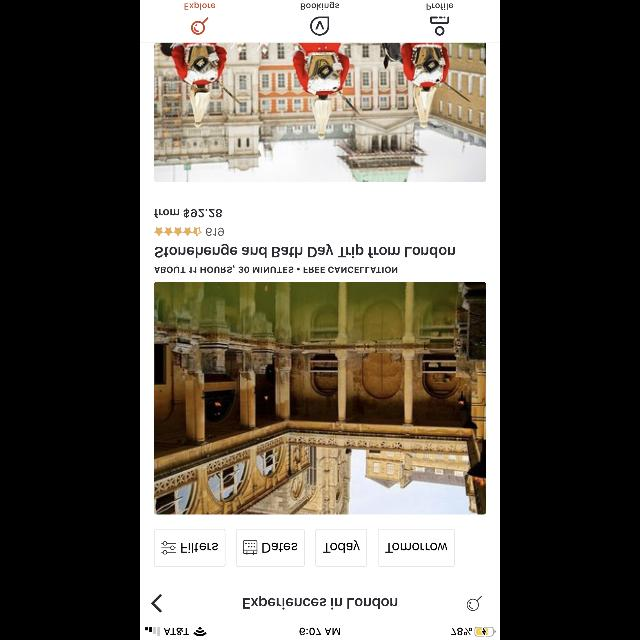icon: (154, 227, 202, 237), (430, 16, 450, 36), (192, 18, 208, 34), (466, 596, 482, 610), (152, 594, 162, 612)
image: (154, 282, 486, 514), (154, 42, 486, 182), (310, 16, 330, 36)
text: (155, 244, 455, 258), (243, 595, 397, 609), (154, 265, 398, 273), (154, 208, 222, 218), (301, 2, 339, 10), (184, 2, 216, 10), (427, 4, 453, 10), (206, 228, 224, 236)
textbutton: (378, 529, 454, 567), (154, 528, 226, 566), (237, 529, 306, 567), (315, 529, 367, 567)
uppertaskbar: (140, 626, 500, 640)
